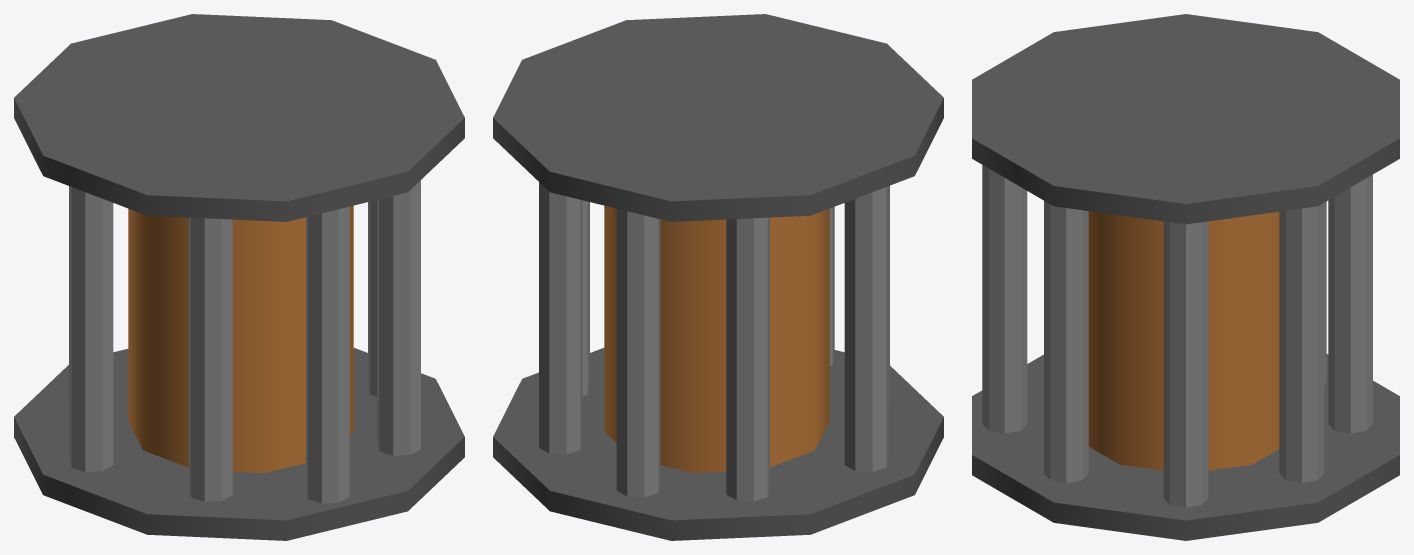
Rendered from RotorLarge.fbx.
3 renders of one model, left to right at view 1: azimuth 30°, elevation 25°; view 2: azimuth 150°, elevation 25°; view 3: azimuth 270°, elevation 25°, orthographic.
Parts seen in each view (by area): view 1: RotorLarge; view 2: RotorLarge; view 3: RotorLarge.
Boxes of the visible parts, x1,y1,x2,y2 form: RotorLarge: (14,14,464,540); RotorLarge: (493,14,943,540); RotorLarge: (972,14,1399,540).
Size of the model in its own units: 40 by 33.06 by 38.04.
